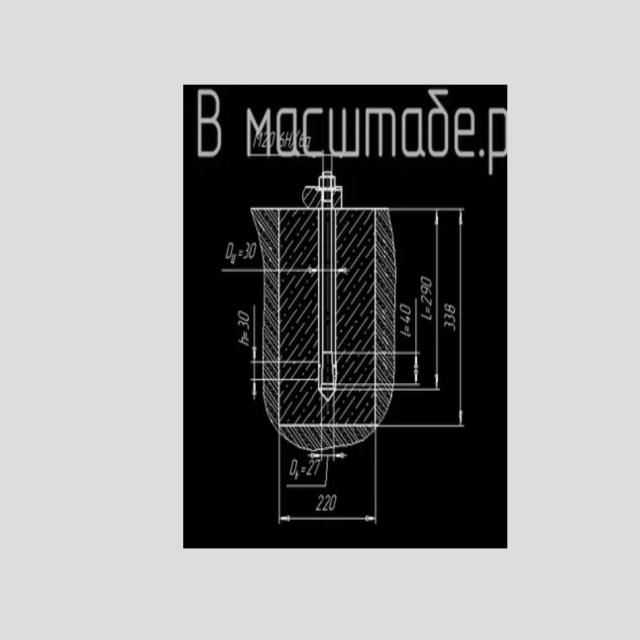marking_line: (398, 207, 465, 430), (398, 209, 440, 393), (275, 451, 379, 524), (285, 450, 347, 489), (395, 299, 421, 386), (250, 304, 263, 366), (249, 378, 262, 401)
numeric: (444, 300, 456, 315), (420, 294, 433, 306), (238, 310, 250, 322), (322, 494, 330, 512), (306, 458, 314, 476), (400, 302, 411, 315), (419, 276, 433, 286), (249, 243, 257, 260), (444, 312, 456, 323), (443, 321, 456, 331), (420, 285, 431, 296), (330, 495, 338, 510), (313, 459, 320, 476), (243, 241, 249, 260), (317, 493, 323, 511), (399, 314, 411, 323), (238, 321, 249, 330), (271, 132, 275, 148)
